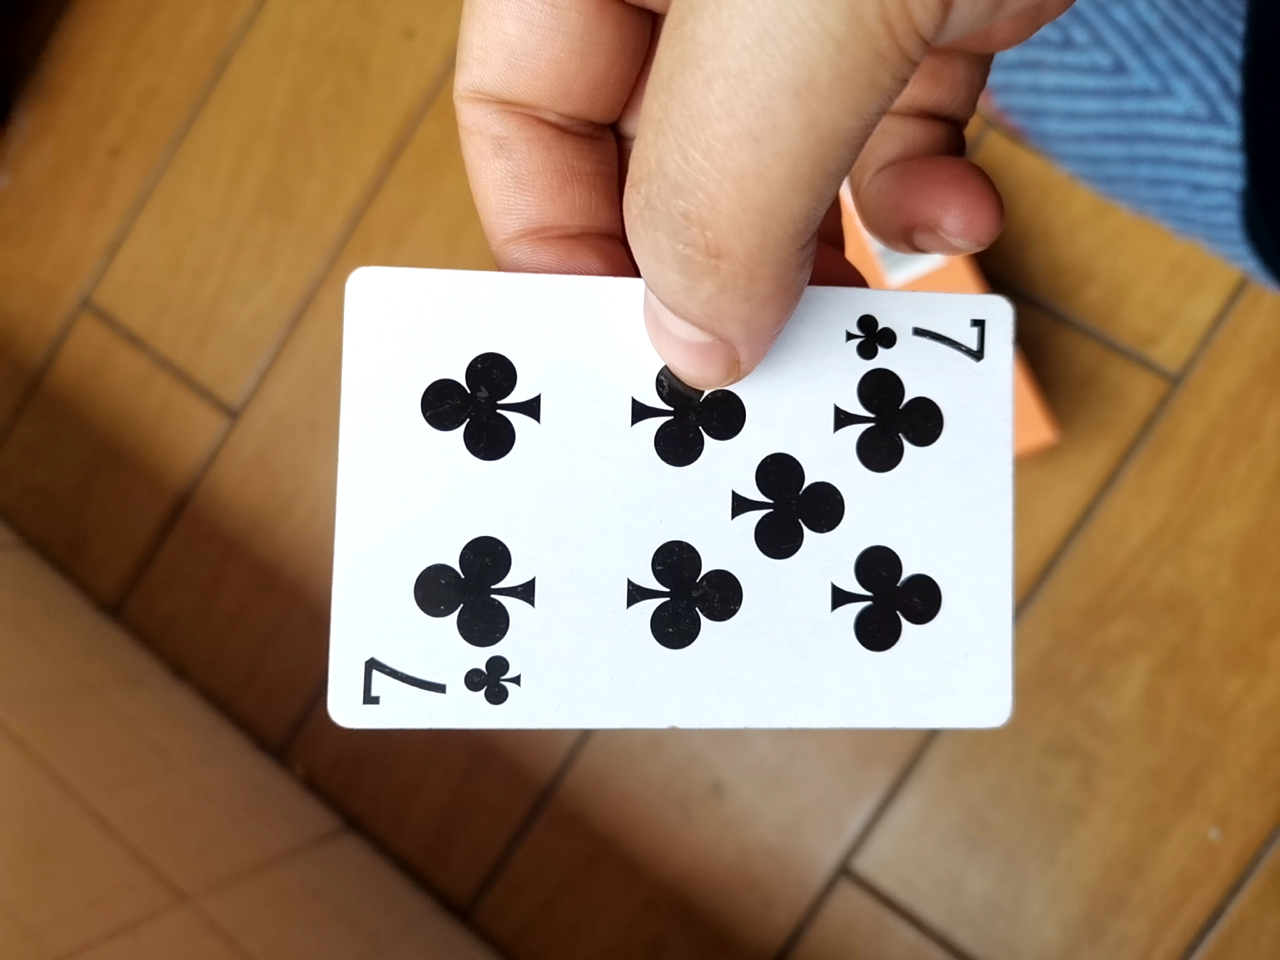mh 7: (309, 263, 1017, 750)
